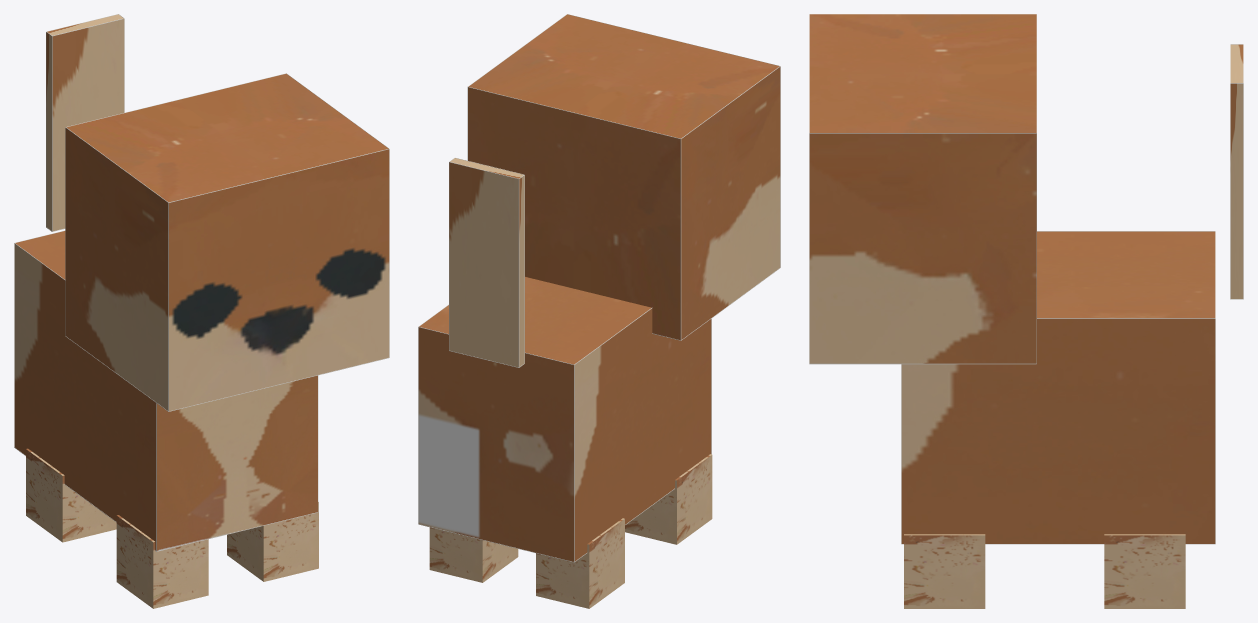
File: corgi.glb
The picture shows the model from 3 angles, left to right: view 1: azimuth 30°, elevation 25°; view 2: azimuth 150°, elevation 25°; view 3: azimuth 270°, elevation 25°; orthographic projection. The views are drawn at different scales.
Visible parts, largest first — view 1: Corgi — reconstructed printed paper boxes; view 2: Corgi — reconstructed printed paper boxes; view 3: Corgi — reconstructed printed paper boxes.
Part boxes in pixels (<box>): Corgi — reconstructed printed paper boxes: <box>14,14,389,608</box>; Corgi — reconstructed printed paper boxes: <box>418,14,780,608</box>; Corgi — reconstructed printed paper boxes: <box>809,14,1243,608</box>.
Bounding box in the file's own units: 0.5105 × 1 × 0.7868.
Materials: 15 (14 with a texture image).
